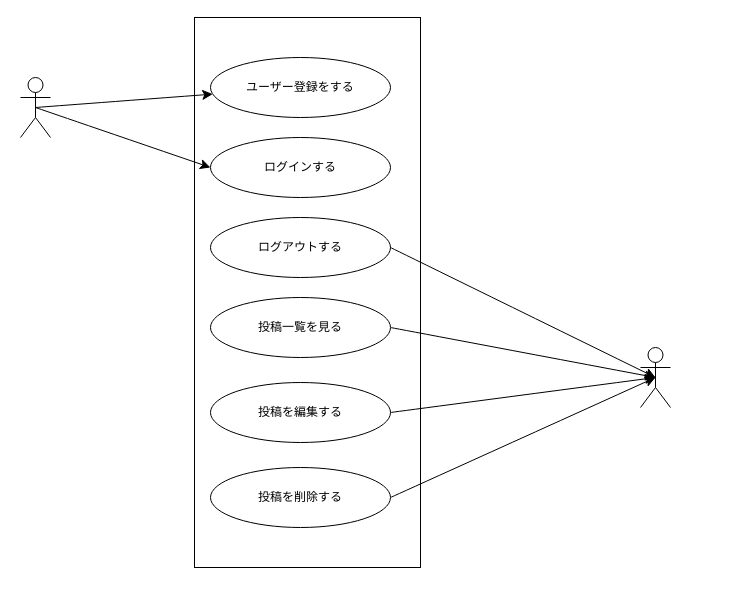
This 732x595 diagram has some shape labels left out. Each missing label, with the box of its shape:
ログイン済みユーザー: (640, 346, 670, 408)
投稿アプリ: (194, 16, 420, 568)
訪問者: (20, 76, 50, 138)
